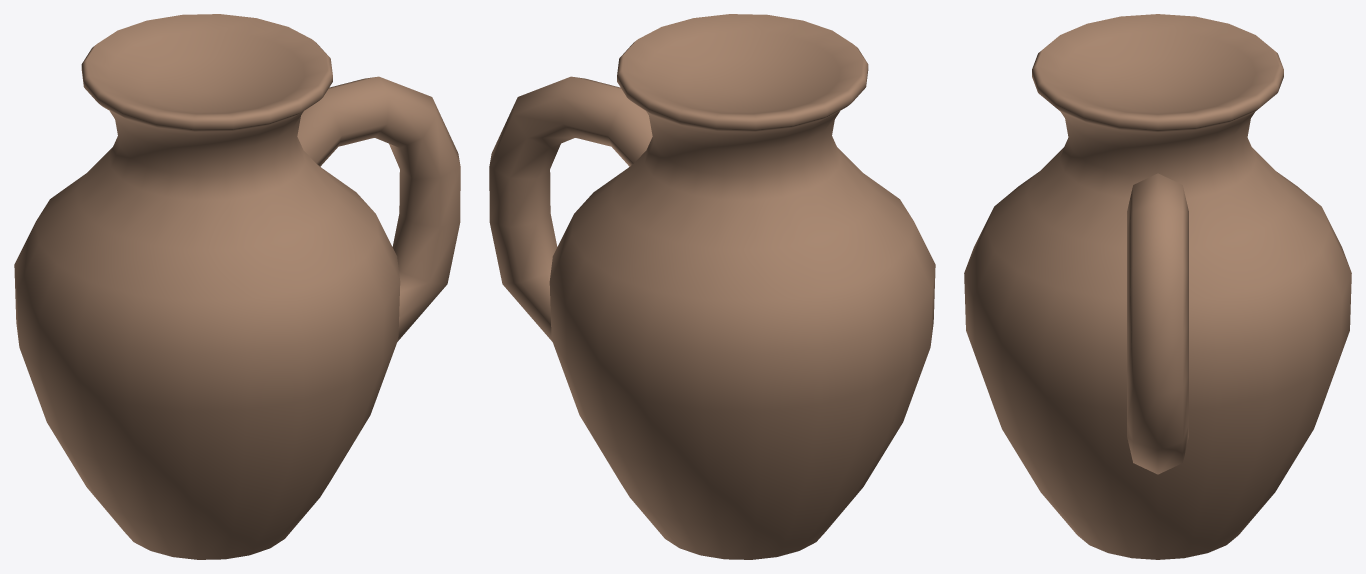
File: mesh_vasija2.fbx
3 views of the same model, side by side, from view 1: azimuth 30°, elevation 25°; view 2: azimuth 150°, elevation 25°; view 3: azimuth 270°, elevation 25° (orthographic).
Parts seen in each view (by area): view 1: mesh_vasija2; view 2: mesh_vasija2; view 3: mesh_vasija2.
Boxes of the visible parts, x1,y1,x2,y2 form: mesh_vasija2: (14,14,460,559); mesh_vasija2: (489,14,935,559); mesh_vasija2: (964,14,1351,559).
Size of the model in its own units: 71.83 by 75.24 by 57.6.
